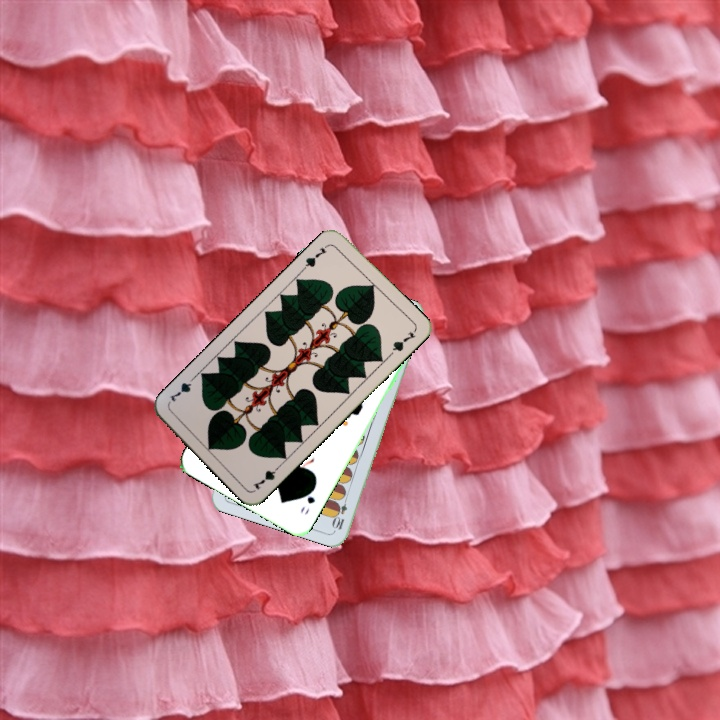E10: (330, 492, 350, 532)
G7: (249, 460, 284, 492), (299, 241, 331, 272)
GO: (296, 482, 318, 517)
